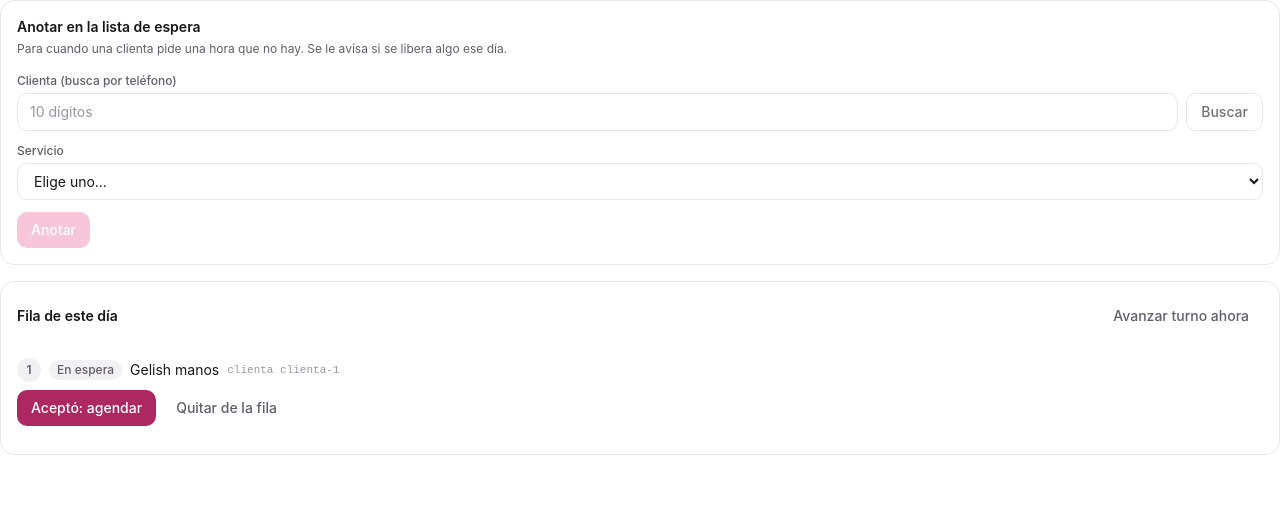
Test: Lista de espera (`DEC-039`) › AVANZAR TURNO resume qué pasó
Click the button "Avanzar turno ahora".
click(1181, 316)  # box [1099, 298, 1263, 334]
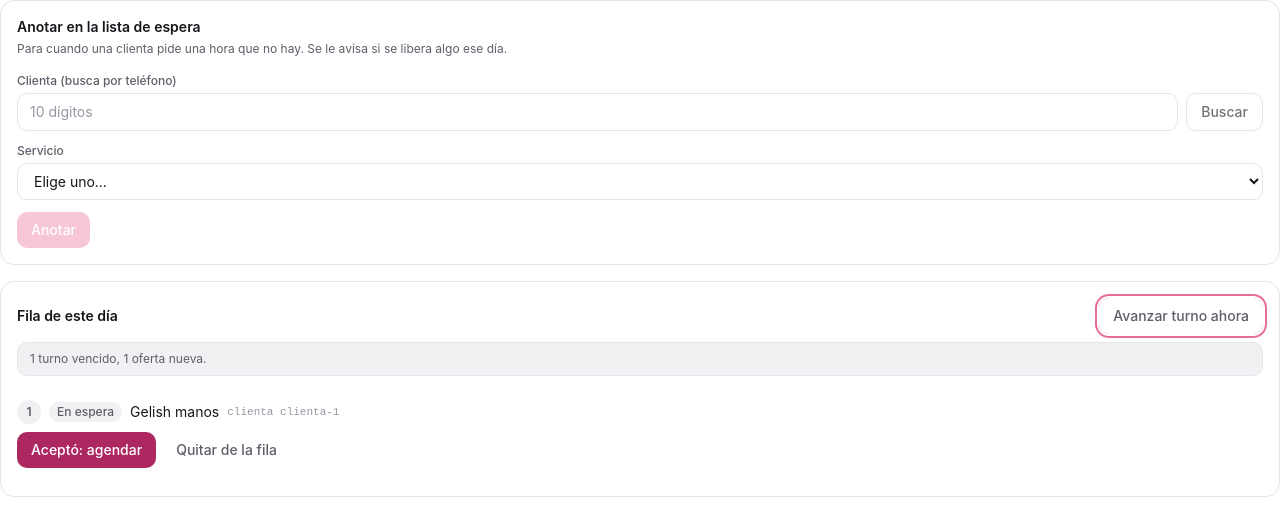
Expected: the text "1 turno vencido, 1 oferta nueva." is shown, [17, 342, 1263, 376]
